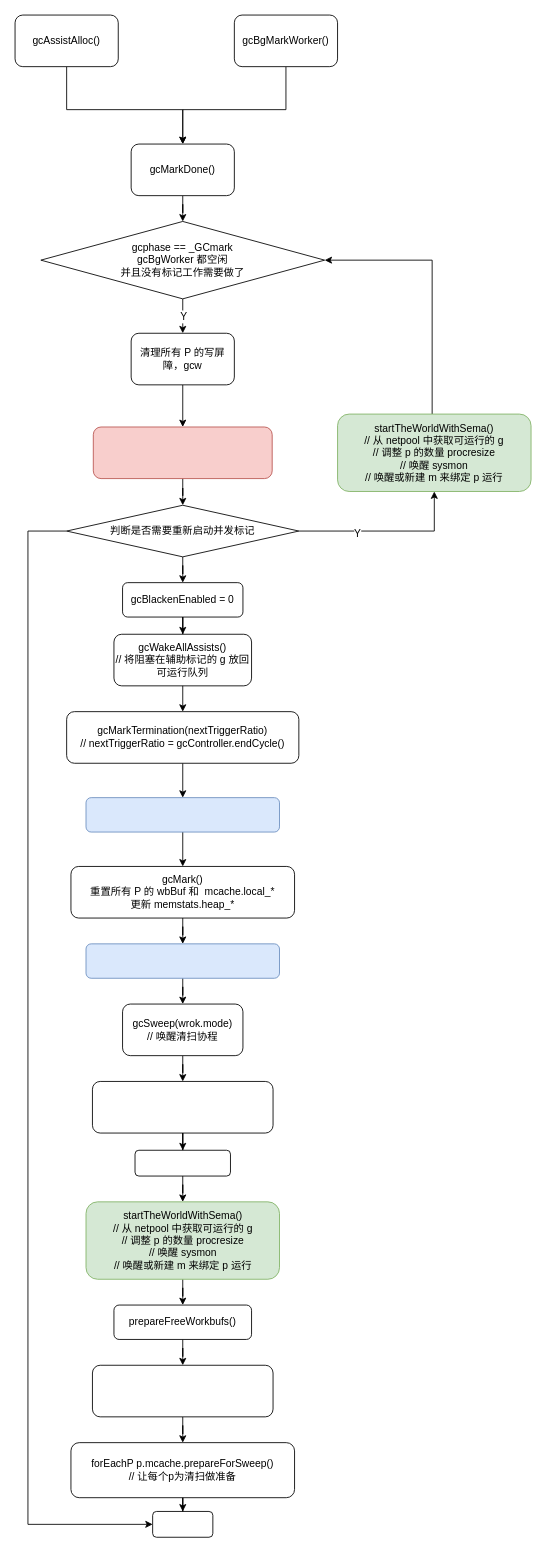
Image size: 546x1552. Some labels were removed from this diagram. Here are the shapes that lost their labels. From the top down, the centre of each, then its label:
At point 182,452: "stopTheWorldWithSema() 对所有在运行的 g 发出抢占 将所有 p 的状态切换到 _Pgcstop".
At point 182,814: "setGCPhase(_GCmarktermination) writeBarrier.enabled = true".
At point 182,960: "setGCPhase(_GCoff) writeBarrier.enabled = false".
At point 182,1107: "gcSetTriggerRatio(nextTriggerRatio) // 更新下一次GC目标、触发阈值、标记、清扫、释放内存的步调".
At point 182,1162: "更新 memstats".
At point 182,1390: "freeStackSpans() // 从stackpool和stackLarge.free中释放空闲的栈会mheap".
At point 182,1524: "结束".
